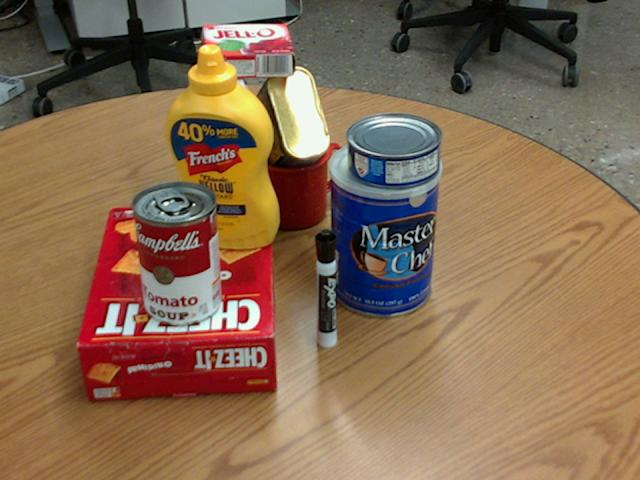cracker_box: (78, 204, 277, 399)
gelatin_box: (203, 25, 293, 78)
large_marker: (315, 229, 336, 347)
master_chef_can: (328, 136, 441, 316)
mug: (248, 127, 347, 228)
mustard_bottle: (163, 44, 277, 248)
potted_meat_can: (246, 68, 329, 183)
sugar_box: (201, 57, 248, 246)
tomato_soup_can: (131, 181, 221, 324)
tuna_fish_can: (346, 112, 442, 187)
